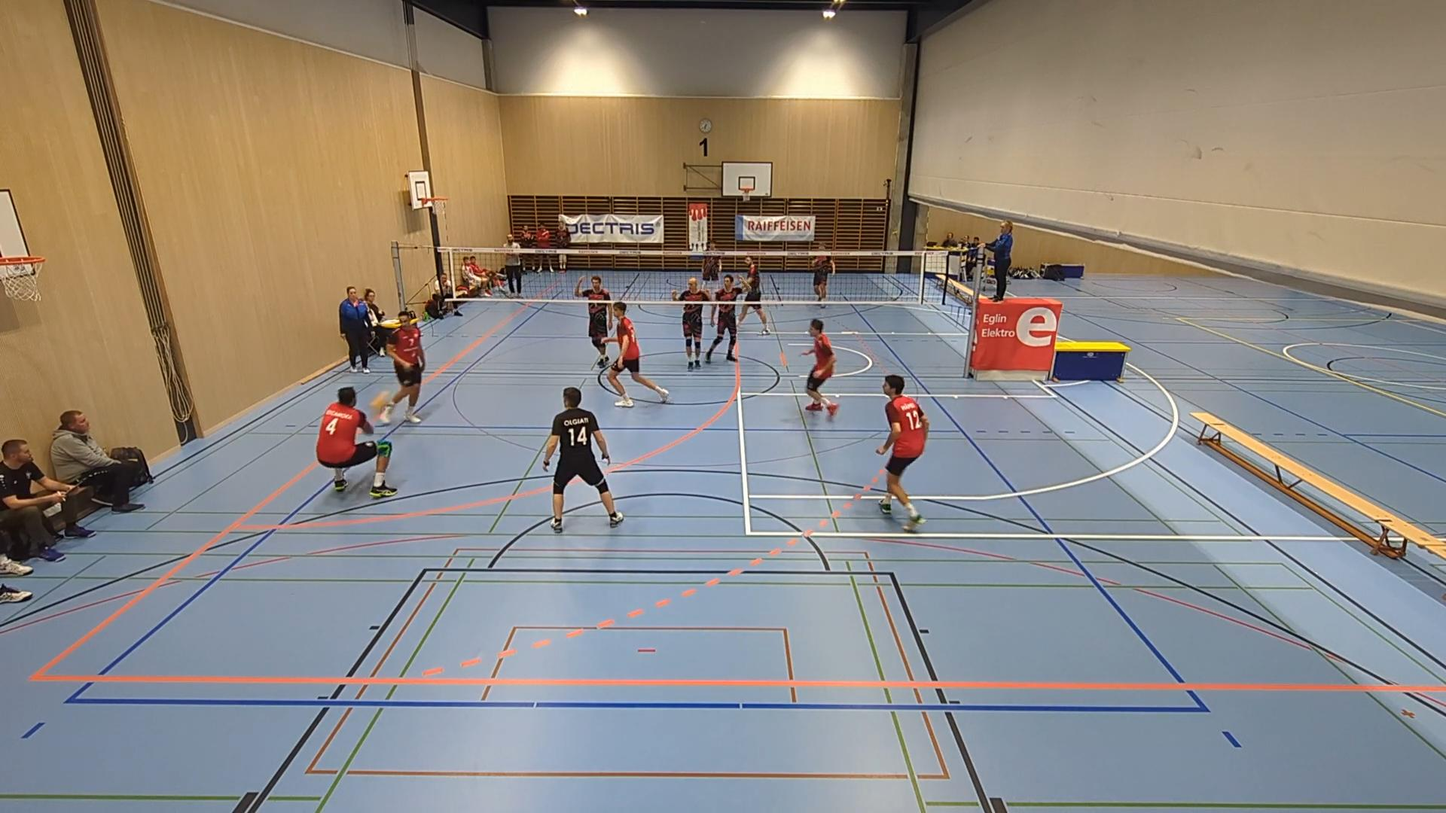Player: (542, 387, 623, 532), (877, 375, 929, 531), (607, 302, 668, 406), (377, 310, 424, 425), (801, 318, 837, 417), (672, 278, 709, 370), (704, 275, 742, 363), (575, 276, 611, 368), (739, 257, 769, 334), (813, 255, 836, 303), (701, 242, 721, 282)
Receive: (315, 386, 399, 499)
ball: (368, 386, 389, 406)
